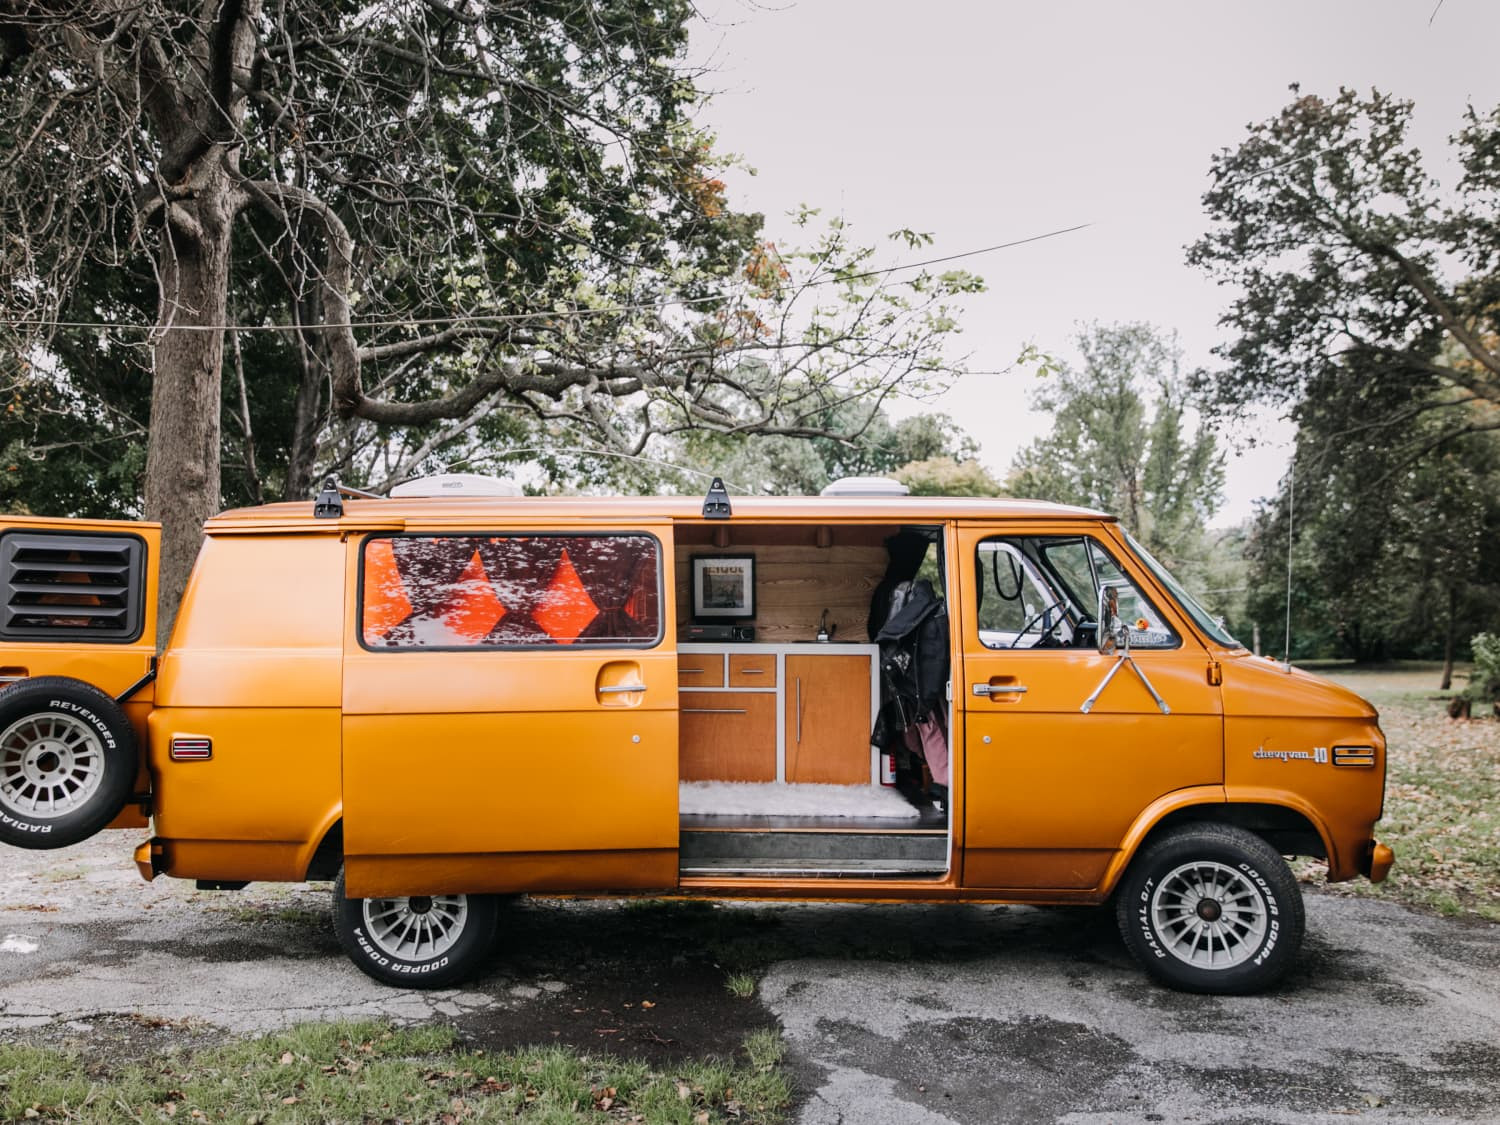van: (0, 470, 1400, 996)
